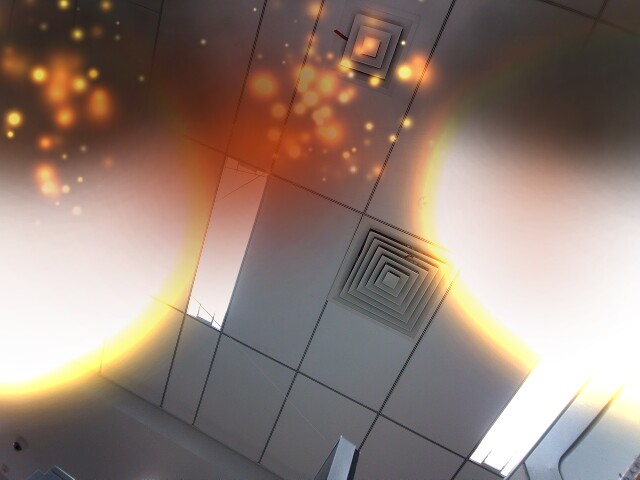fire: (405, 27, 637, 433), (0, 7, 213, 427)
